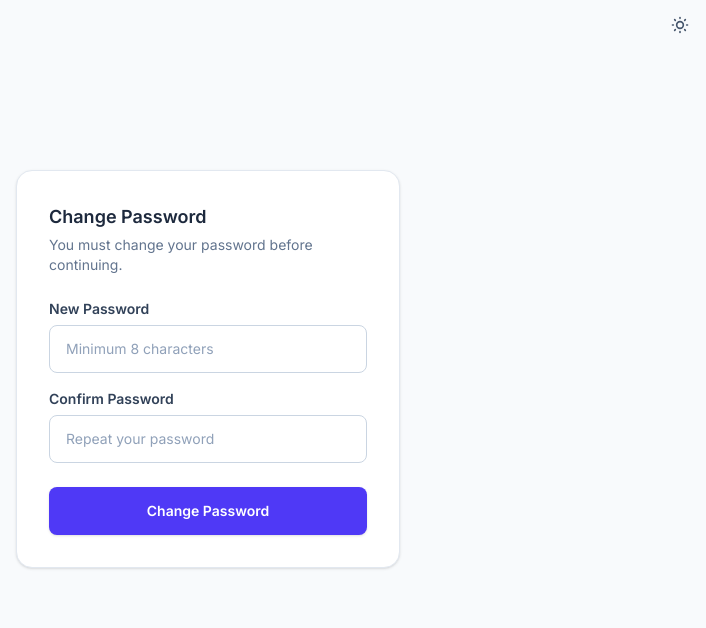
Scenario: ChangePasswordPage › shows error when password too short
In the password field labelled "New Password": (208, 349) 49,325 -> 367,373, type "short"
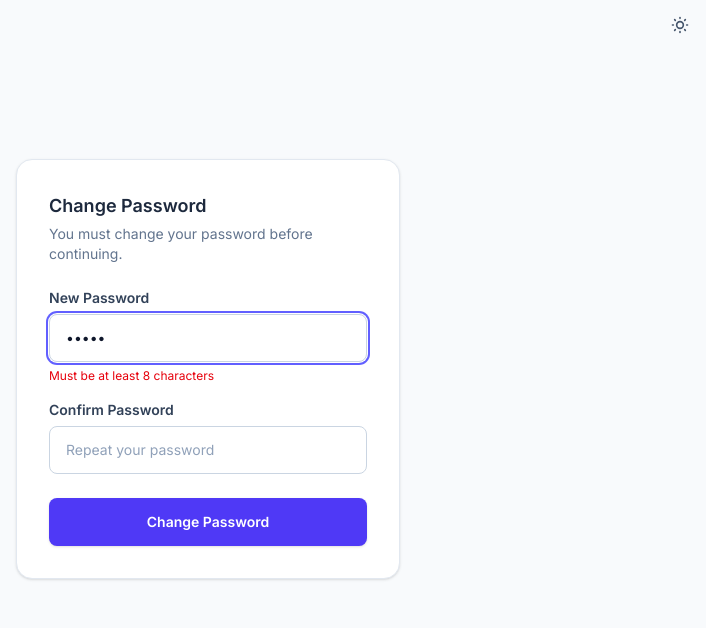
In the password field labelled "Confirm Password": (208, 450) 49,426 -> 367,474, type "short"
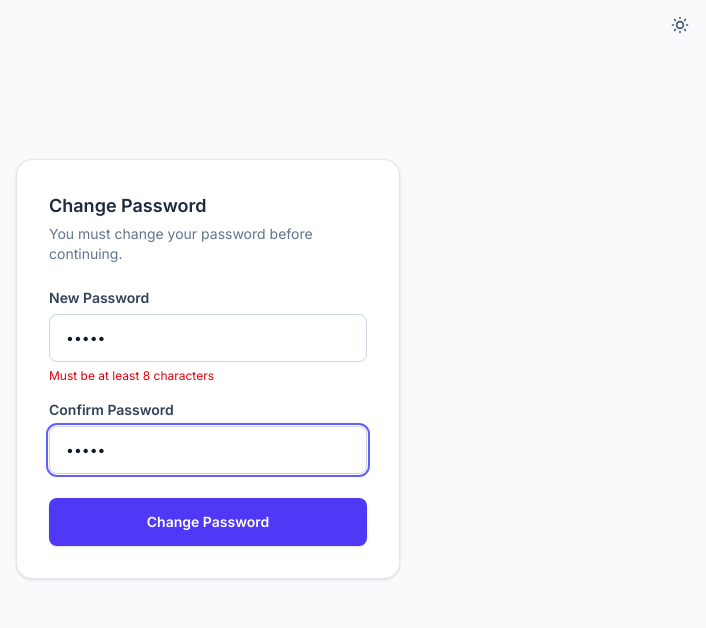
Click the button "Change Password": (208, 522) 49,498 -> 367,546
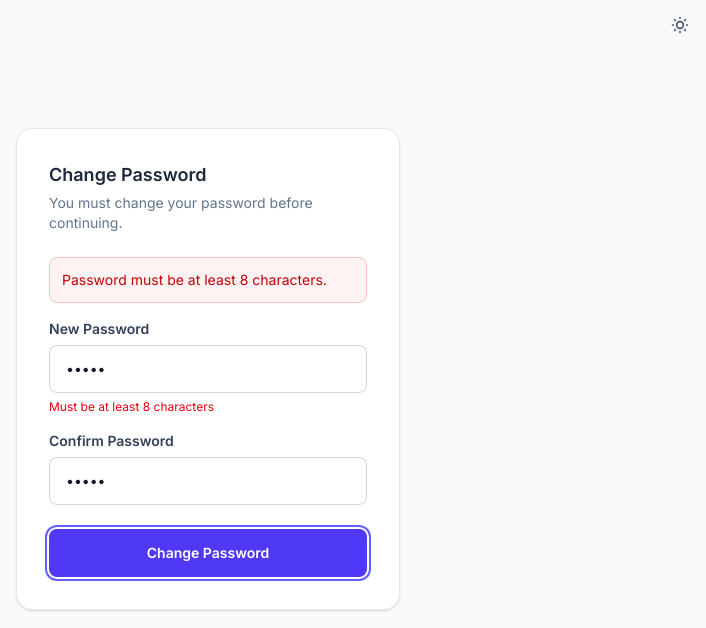
Expected: the message reads "Password must be at least 8 characters.", 62,271 -> 327,288
